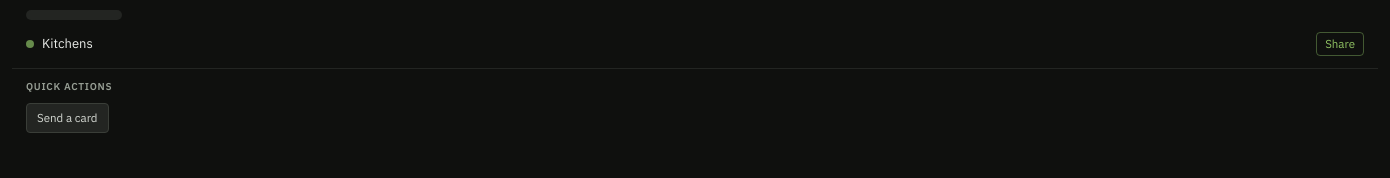
Scenario: notes and sharing › lists a note under its zone and expands it to its body
Expected: the text "The cook is a spy." is not shown
Click the button "Kitchens". click: (67, 44)
box: [42,30,1308,58]
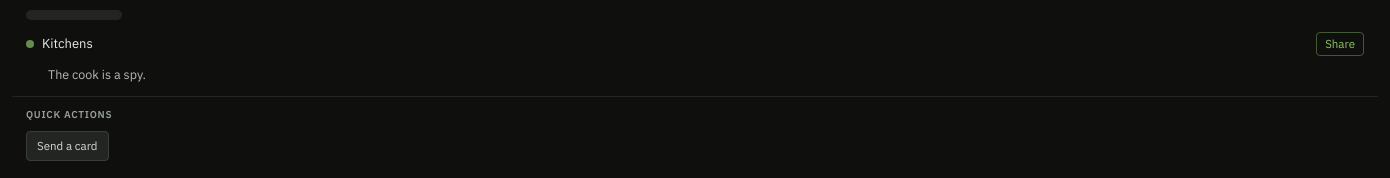
Expected: the text "The cook is a spy." is shown, [48,66,146,82]
